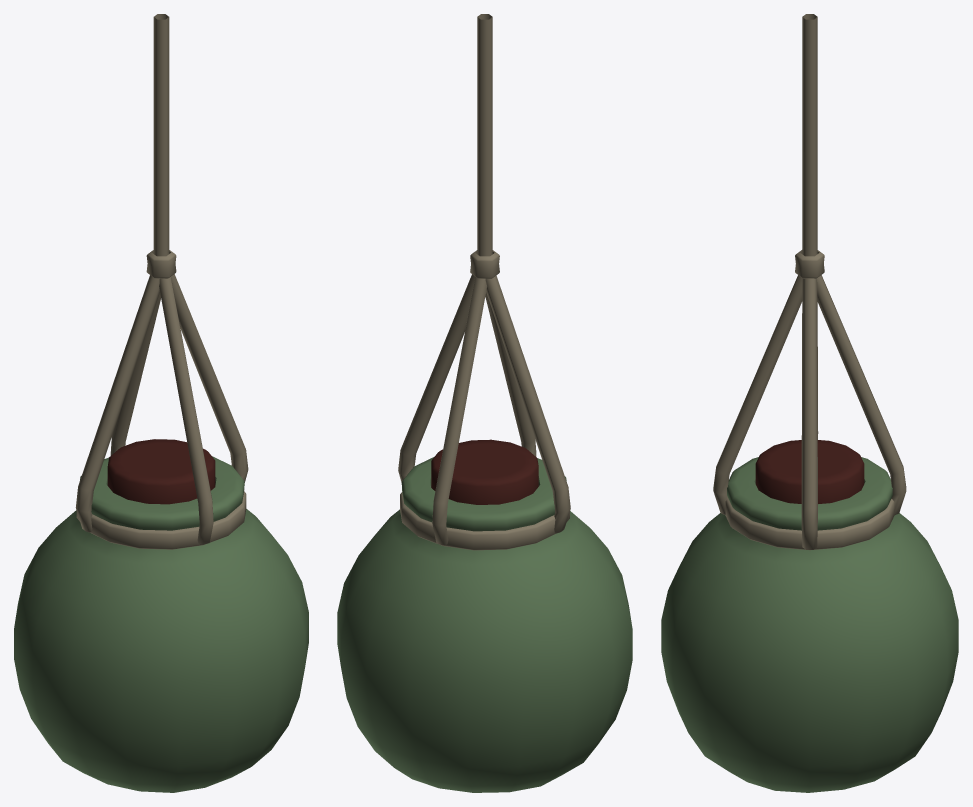
Rendered from LampadaDeVagalume.fbx.
3 renders of one model, left to right at view 1: azimuth 30°, elevation 25°; view 2: azimuth 150°, elevation 25°; view 3: azimuth 270°, elevation 25°, orthographic.
Parts seen in each view (by area): view 1: Vaso, Cordaprincipal, Tampa, Corda; view 2: Vaso, Cordaprincipal, Tampa, Corda; view 3: Vaso, Cordaprincipal, Tampa, Corda.
Boxes of the visible parts, x1,y1,x2,y2 form: Vaso: (14, 456, 308, 792); Cordaprincipal: (75, 250, 248, 549); Tampa: (107, 439, 215, 504); Corda: (153, 14, 169, 256); Vaso: (337, 457, 632, 792); Cordaprincipal: (398, 250, 570, 550); Tampa: (431, 439, 538, 504); Corda: (477, 14, 492, 256); Vaso: (661, 457, 958, 792); Cordaprincipal: (713, 250, 906, 550); Tampa: (755, 440, 864, 503); Corda: (802, 14, 817, 256).
Size of the model in its own units: 31.9 by 88.35 by 31.9.
